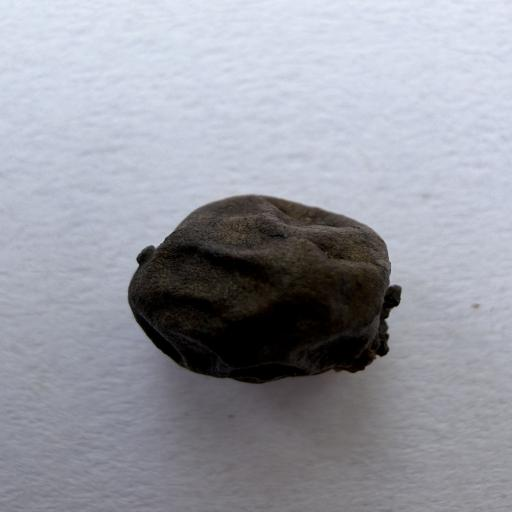Black_pepper: (102, 183, 410, 385)
